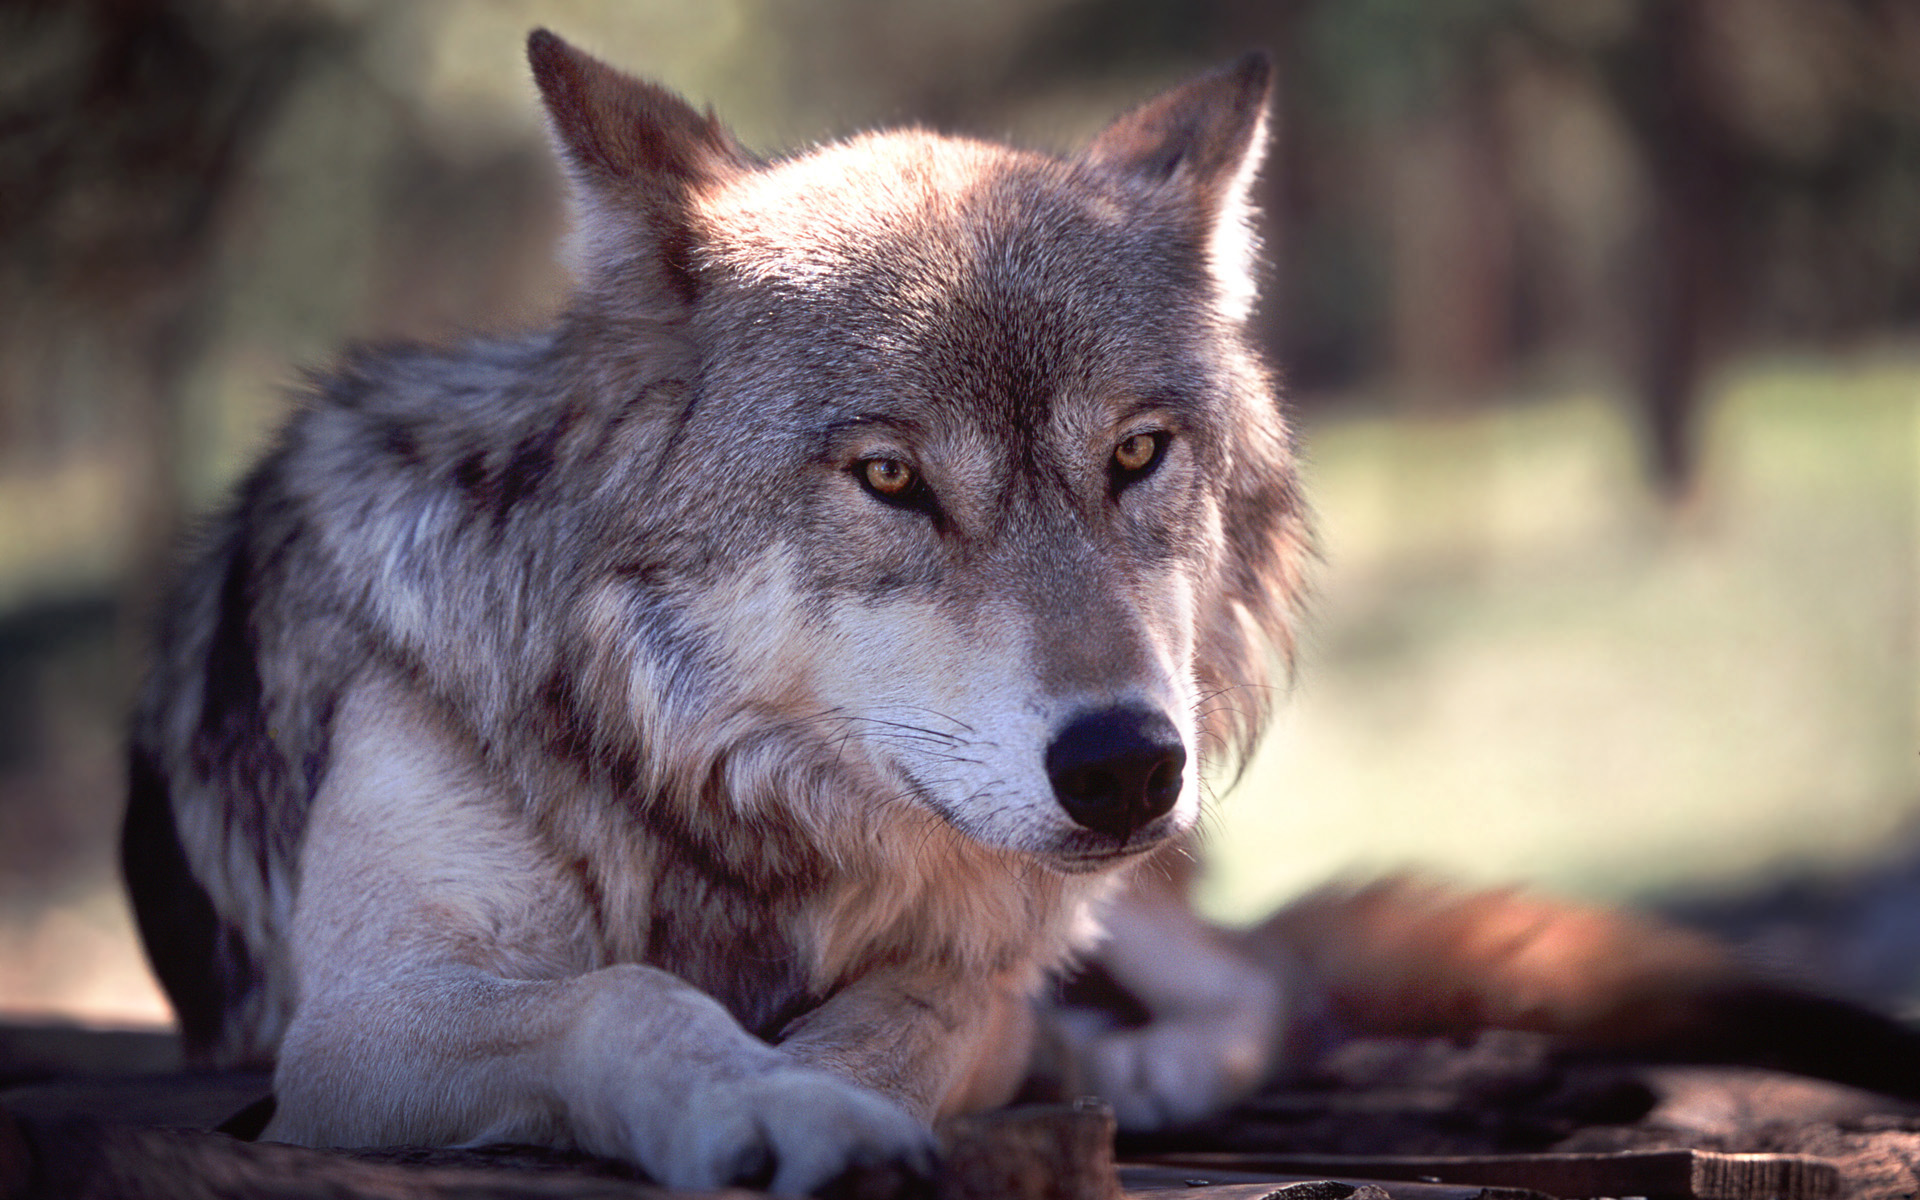Lobo: (293, 19, 1381, 1153)
